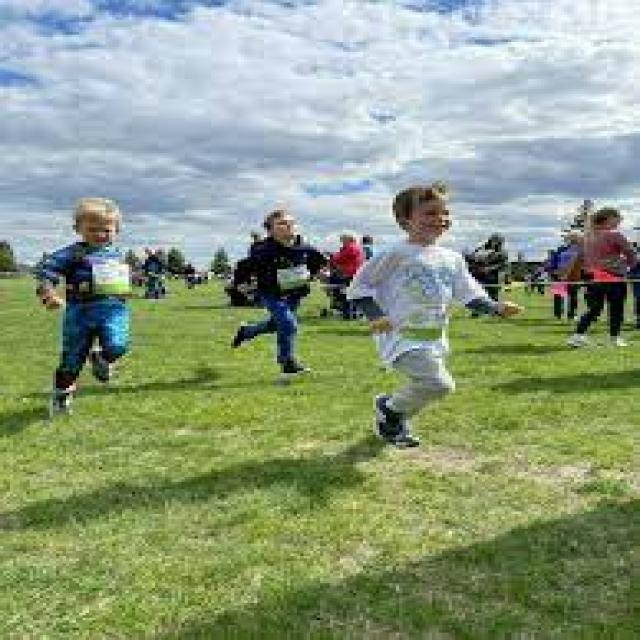Person: (348, 182, 524, 449), (34, 198, 130, 414), (232, 210, 324, 374)
